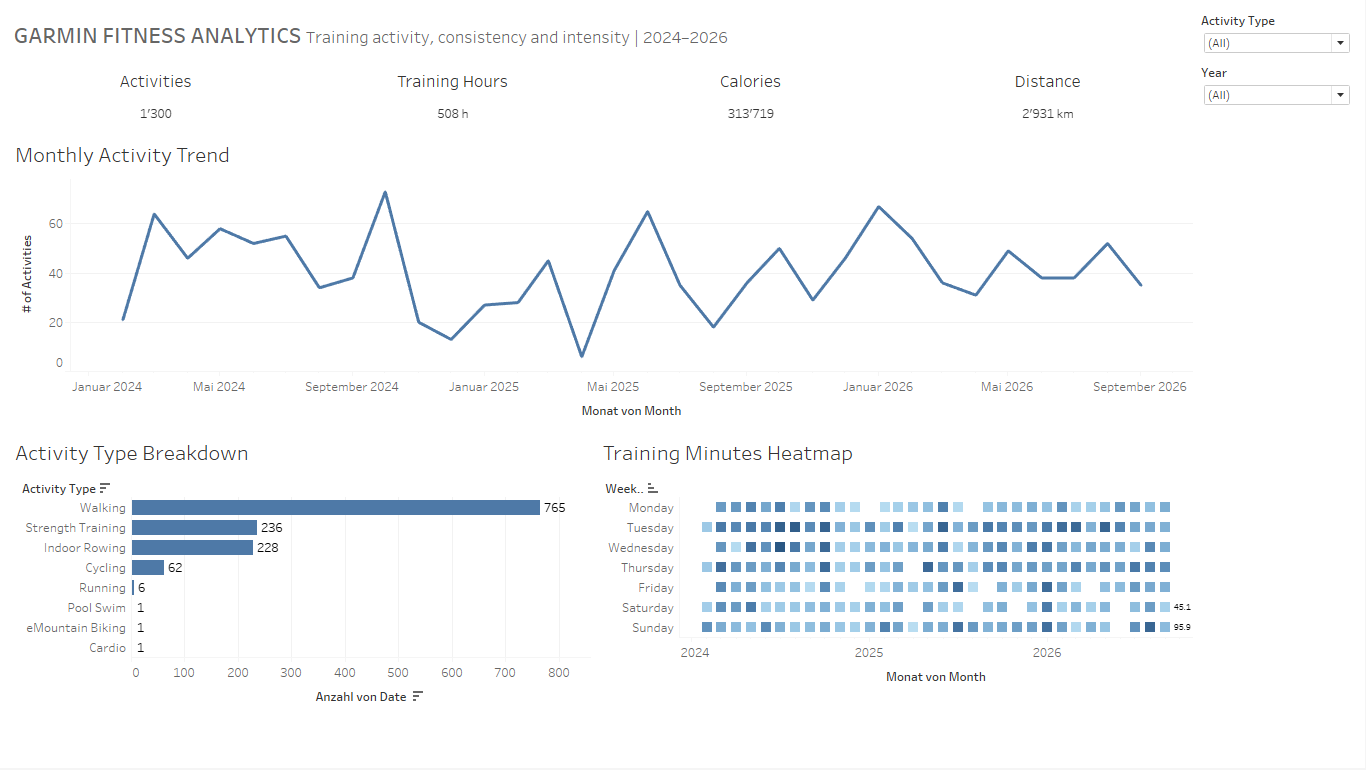

The dashboard page shown, as its layout file describes it:
{"tool":"tableau","page":{"name":"Dashboard 1","canvas":[1366,768],"ordinal":0},"visuals":[{"type":"text","box":[8,8,1190,53.4]},{"type":"filter","title":"Activity Type Breakdown","param":"[federated.1jzu3ma0aucnui18zgdz3014b4gk].[none:Activity Type:nk]","box":[1198,8,160,52]},{"type":"filter","title":"Monthly Activity Trend","param":"[federated.1jzu3ma0aucnui18zgdz3014b4gk].[none:Calculation_560135250166566912:ok","box":[1198,60,160,52]},{"type":"worksheet","title":"KPI Activities","mark":"Automatic","box":[8,61.4,297.5,70.6]},{"type":"worksheet","title":"KPI Training Hours","mark":"Automatic","box":[305.5,61.4,297.5,70.6]},{"type":"worksheet","title":"KPI Calories","mark":"Automatic","box":[603,61.4,297.5,70.6]},{"type":"worksheet","title":"KPI Distance","mark":"Automatic","box":[900.5,61.4,297.5,70.6]},{"type":"worksheet","title":"Monthly Activity Trend","mark":"Automatic","rows":["Date"],"cols":["Calculation_560135250166681601"],"box":[8,132,1190,298]},{"type":"worksheet","title":"Activity Type Breakdown","mark":"Bar","rows":["Activity Type"],"cols":["Date"],"box":[8,430,588,330]},{"type":"worksheet","title":"Training Minutes Heatmap","mark":"Square","rows":["Calculation_560135250166833154"],"cols":["Calculation_560135250166681601"],"box":[596,430,602,330]}]}

Visuals, with their boxes in screenshot pixels (x1, y1, x2, y2), scaled from the page's 1366x768 canvas onto the 1366x770 screenshot:
text: {"x1": 8, "y1": 8, "x2": 1198, "y2": 62}
"Activity Type Breakdown" filter: {"x1": 1198, "y1": 8, "x2": 1358, "y2": 60}
"Monthly Activity Trend" filter: {"x1": 1198, "y1": 60, "x2": 1358, "y2": 112}
"KPI Activities" worksheet: {"x1": 8, "y1": 62, "x2": 306, "y2": 132}
"KPI Training Hours" worksheet: {"x1": 306, "y1": 62, "x2": 603, "y2": 132}
"KPI Calories" worksheet: {"x1": 603, "y1": 62, "x2": 900, "y2": 132}
"KPI Distance" worksheet: {"x1": 900, "y1": 62, "x2": 1198, "y2": 132}
"Monthly Activity Trend" worksheet: {"x1": 8, "y1": 132, "x2": 1198, "y2": 431}
"Activity Type Breakdown" worksheet (Bar marks): {"x1": 8, "y1": 431, "x2": 596, "y2": 762}
"Training Minutes Heatmap" worksheet (Square marks): {"x1": 596, "y1": 431, "x2": 1198, "y2": 762}
